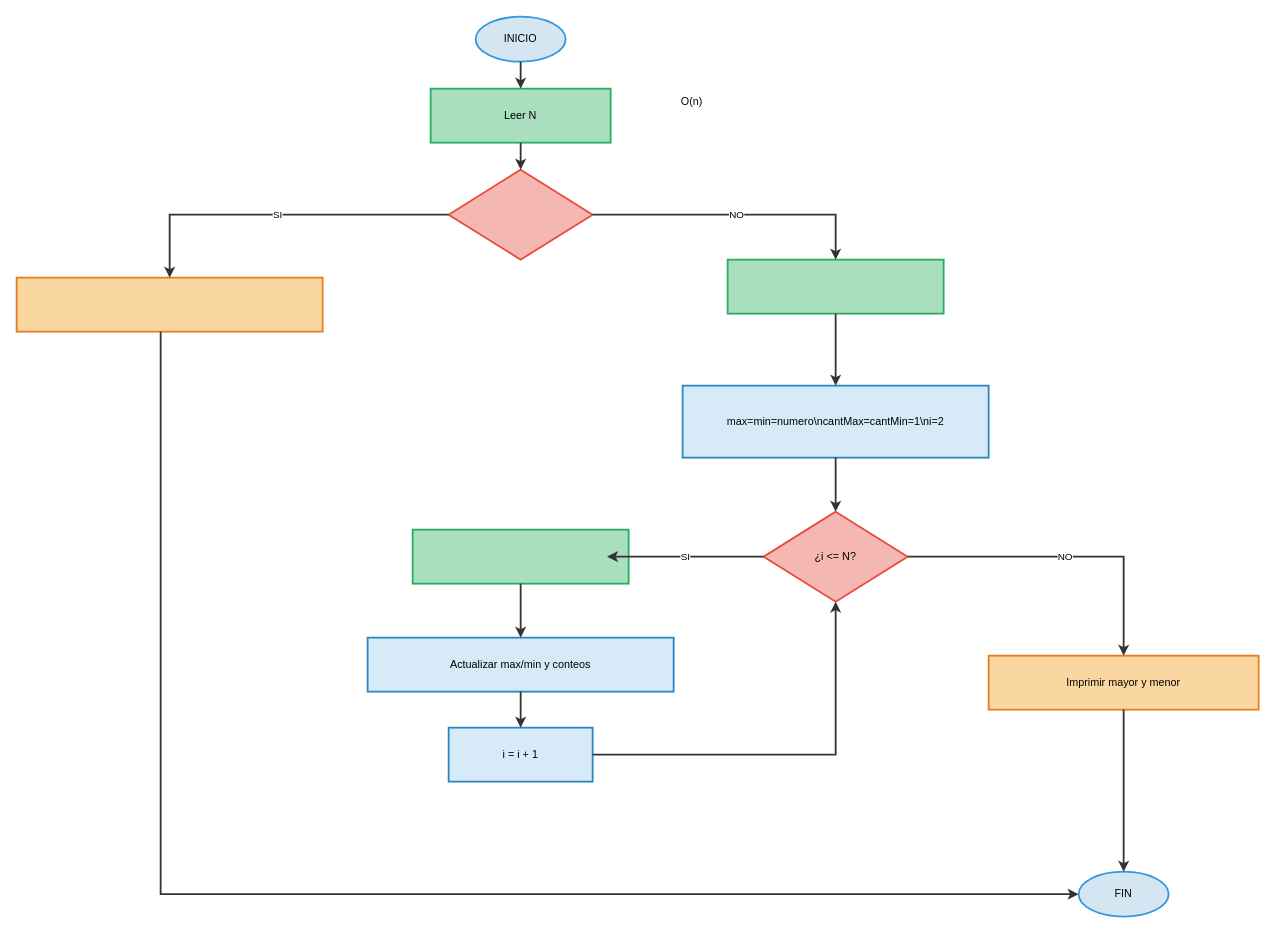
Some shapes in this 1274 by 932 pixel diagram are drawn without their labels. Each missing label, with the centre of its shape:
"Imprimir cantidad invalida" belongs at [169,304].
"Leer numero 1" belongs at [835,286].
"Leer numero i" belongs at [520,556].
"¿N <= 0?" belongs at [520,214].
